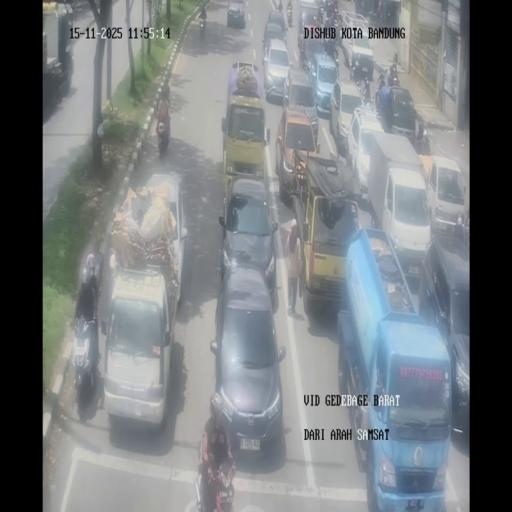3: (293, 154, 365, 321), (361, 132, 430, 264), (220, 69, 268, 198), (42, 2, 74, 117)
car: (209, 266, 285, 464), (102, 266, 175, 430), (416, 230, 468, 444), (217, 176, 278, 300), (140, 171, 189, 304), (275, 104, 318, 202), (424, 156, 466, 236), (330, 77, 364, 152), (377, 85, 417, 144), (305, 52, 337, 118), (262, 38, 291, 102), (340, 12, 370, 52), (265, 9, 287, 40), (297, 0, 319, 29), (226, 0, 246, 28)
truck: (191, 441, 234, 510), (72, 307, 101, 405), (156, 109, 171, 158), (324, 30, 339, 61), (356, 76, 372, 104), (416, 122, 430, 154), (328, 4, 342, 27), (368, 1, 382, 22), (160, 80, 171, 106), (198, 10, 207, 38), (298, 28, 305, 62), (374, 84, 384, 107), (388, 72, 401, 88), (349, 60, 358, 82), (317, 3, 324, 24), (286, 6, 292, 26), (367, 92, 375, 106), (277, 0, 282, 12)
